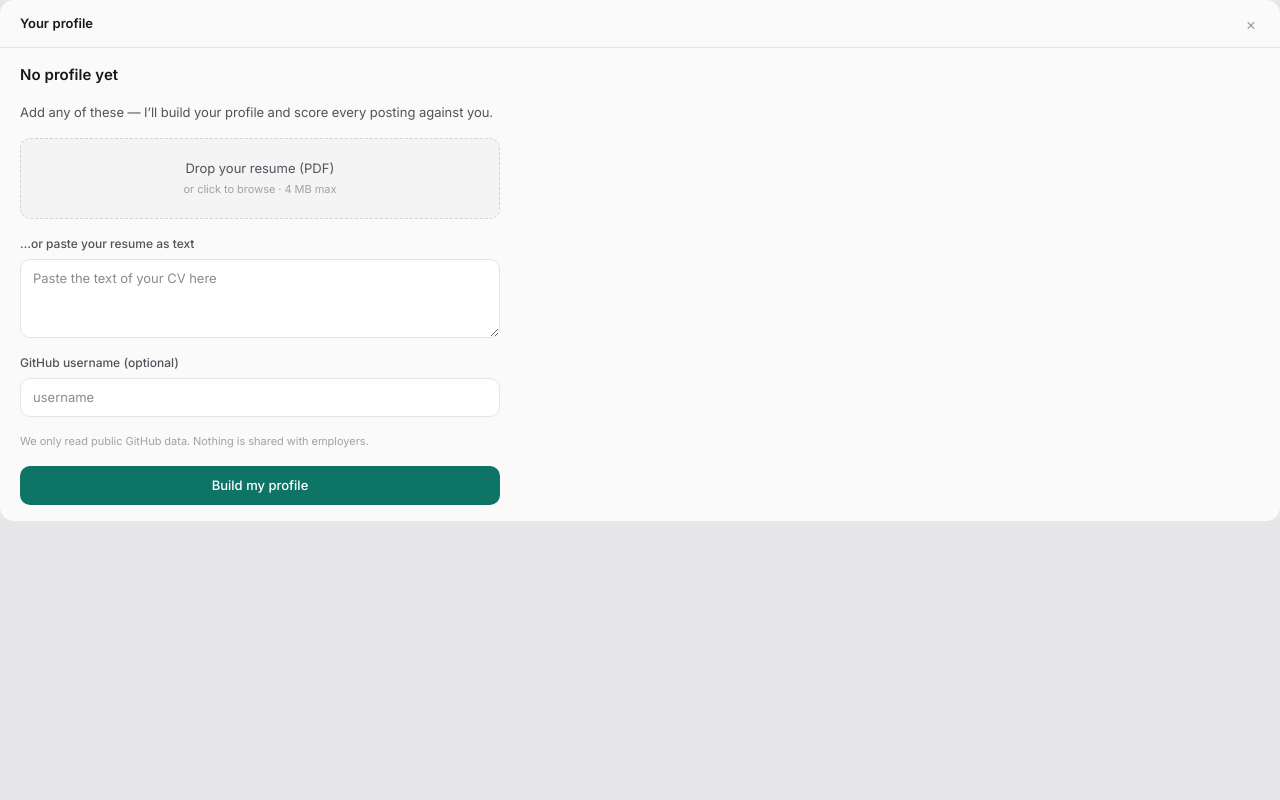
ProfilePanel form › empty build with no inputs shows a validation message, never a save
Click the button "Build my profile": (260, 485) top-left (20, 466), bottom-right (500, 505)
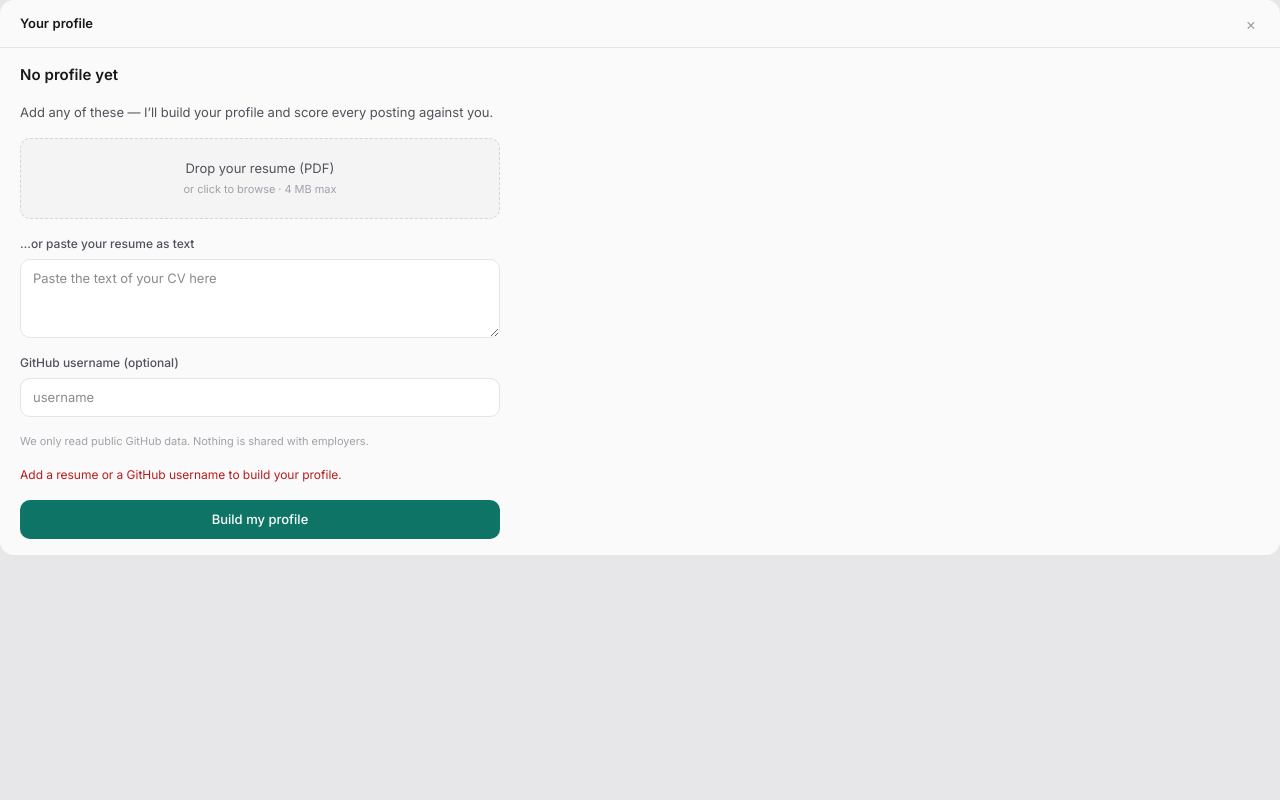
Result: the message shows "Add a resume or a GitHub username" at top-left (20, 466), bottom-right (342, 482)
